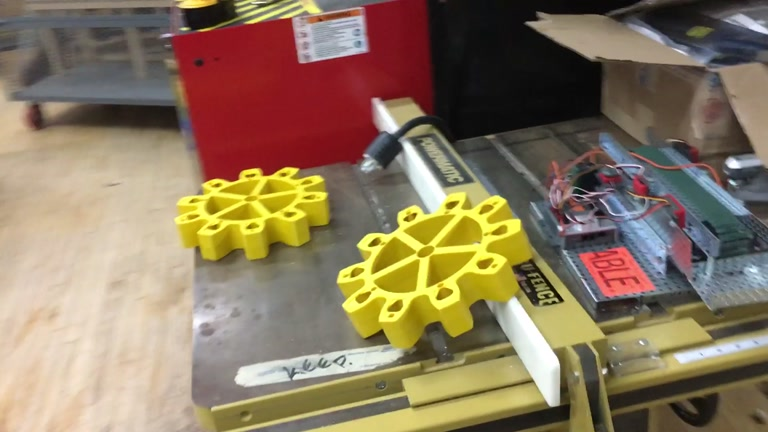gear: (335, 191, 531, 349), (173, 165, 329, 262)
